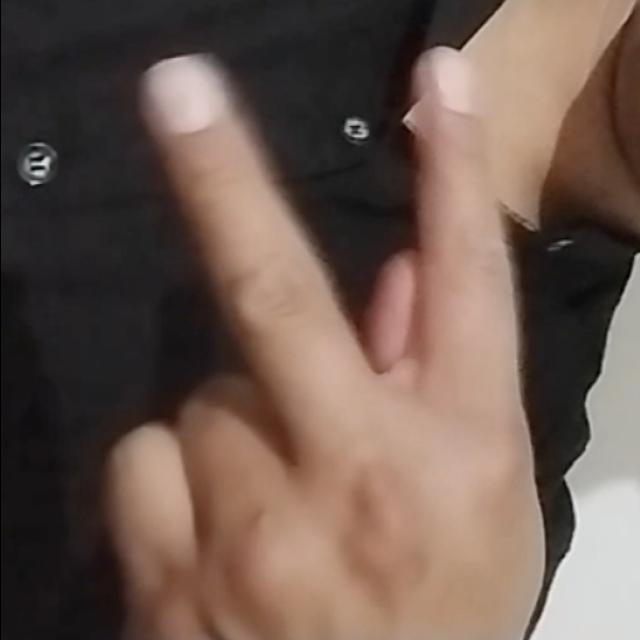K: (96, 39, 555, 640)
